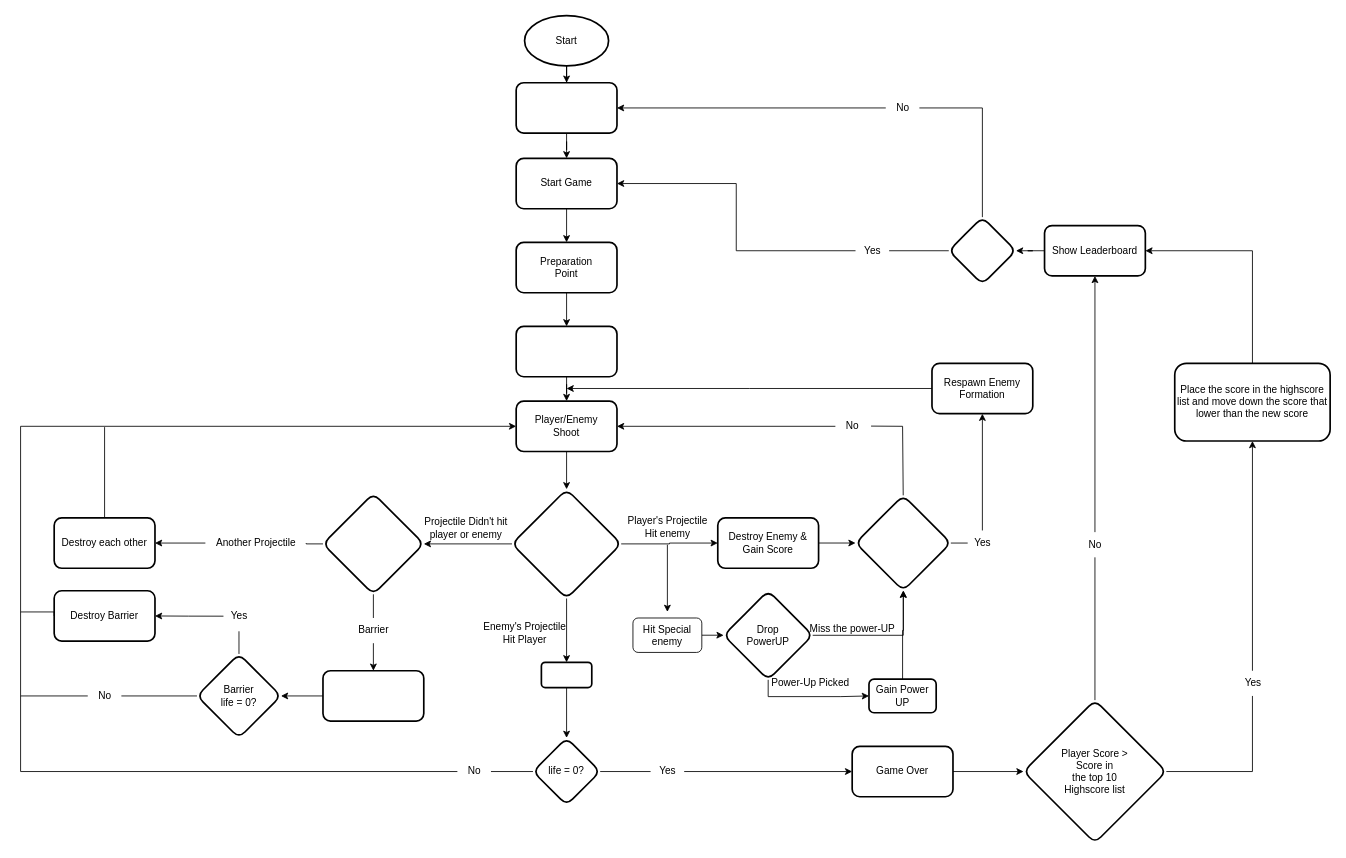
The diagram is 1346 pixels wide and 858 high, and some of its shapes have lost their labels. The centre of each missing label's shape, as x and y in pixels:
"Barrier Life -1" goes at pixel 373 695.
"Enemy's Remaining = 0?" goes at pixel 902 542.
"Hit Barrier / another Projectile" goes at pixel 373 543.
"Life -1" goes at pixel 566 674.
"main Menu" goes at pixel 566 107.
"Projectile Hit?" goes at pixel 566 543.
"Restart?" goes at pixel 982 250.
"Spawn Enemy Formation" goes at pixel 566 351.
